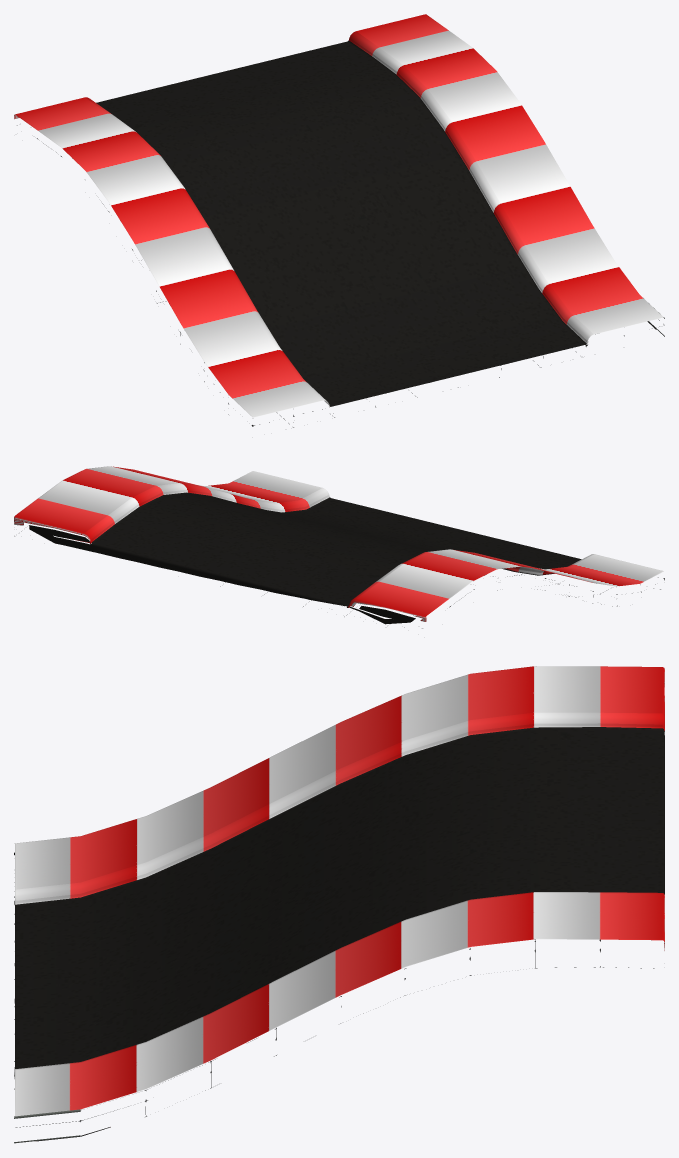
File: hillTrack.fbx
3 renders of one model, top to bottom at view 1: azimuth 30°, elevation 25°; view 2: azimuth 150°, elevation 25°; view 3: azimuth 270°, elevation 25°, orthographic. The views are drawn at different scales.
Visible parts, largest first — view 1: Track_high; view 2: Track_high; view 3: Track_high.
Part boxes in pixels (x1,y1,x2,y2): Track_high: [14, 14, 664, 427]; Track_high: [14, 466, 664, 628]; Track_high: [14, 666, 664, 1143].
Bounding box in the file's own units: 2001 × 696 × 2008.
